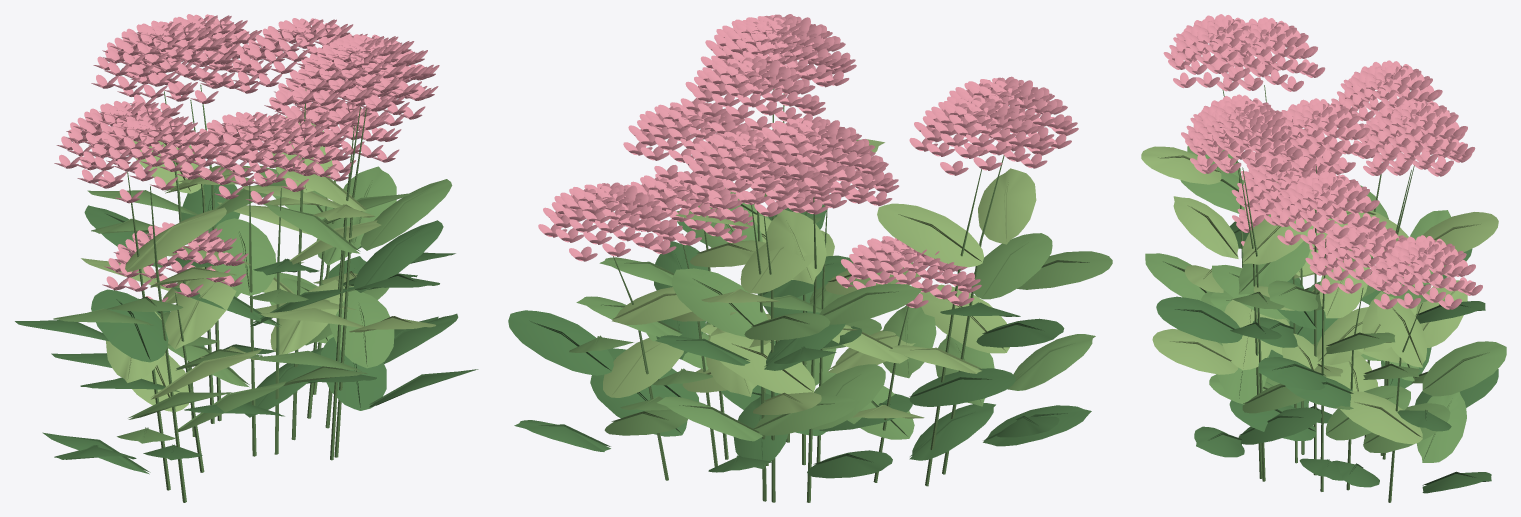
Rendered from hydrangea-border.glb.
The picture shows the model from 3 angles, left to right: view 1: azimuth 30°, elevation 25°; view 2: azimuth 150°, elevation 25°; view 3: azimuth 270°, elevation 25°; orthographic projection. The views are drawn at different scales.
Visible parts, largest first — view 1: catalog_surface_RealismUV; view 2: catalog_surface_RealismUV; view 3: catalog_surface_RealismUV.
Boxes of the visible parts, box(x1,y1,x2,y2) form: catalog_surface_RealismUV: box(15, 14, 478, 502); catalog_surface_RealismUV: box(508, 14, 1112, 502); catalog_surface_RealismUV: box(1141, 14, 1506, 502).
Bounding box in the file's own units: 1 × 0.8 × 0.7.
